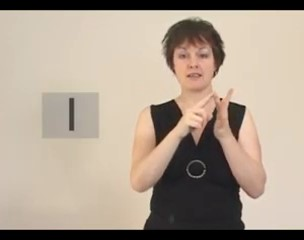I: (177, 84, 241, 139)
